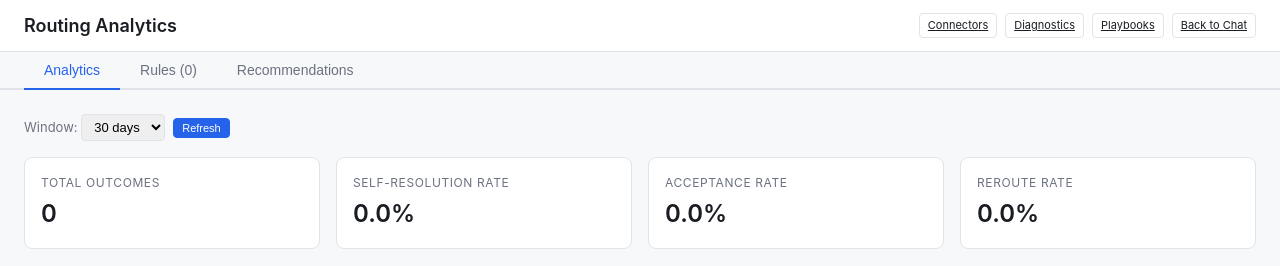
it: RoutingAnalyticsPage › switches to rules tab and loads rules
Step 1. Click the button "Rules (0)" → x=168, y=71, box x1=120 y1=52 x2=217 y2=90
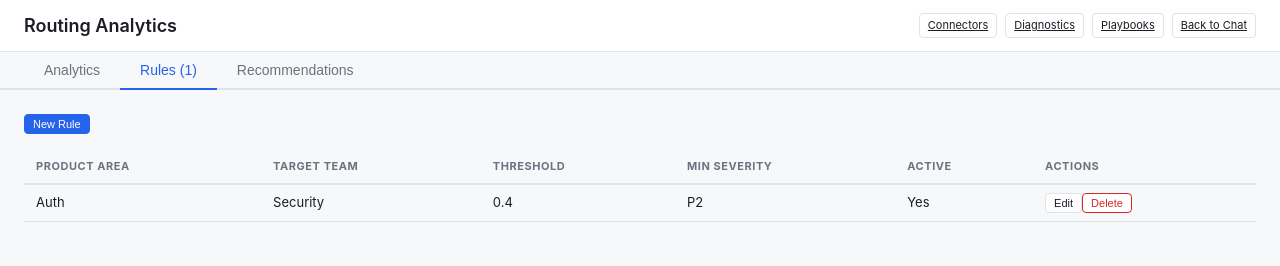
Expected: the text "Auth" is shown, x1=24 y1=184 x2=261 y2=221
Expected: the text "Security" is shown, x1=261 y1=184 x2=481 y2=221
